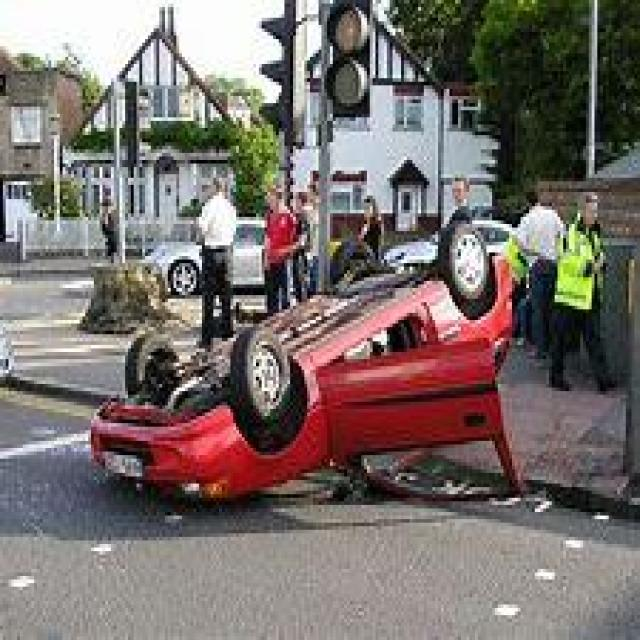Nguy hiểm: (80, 230, 534, 510)
